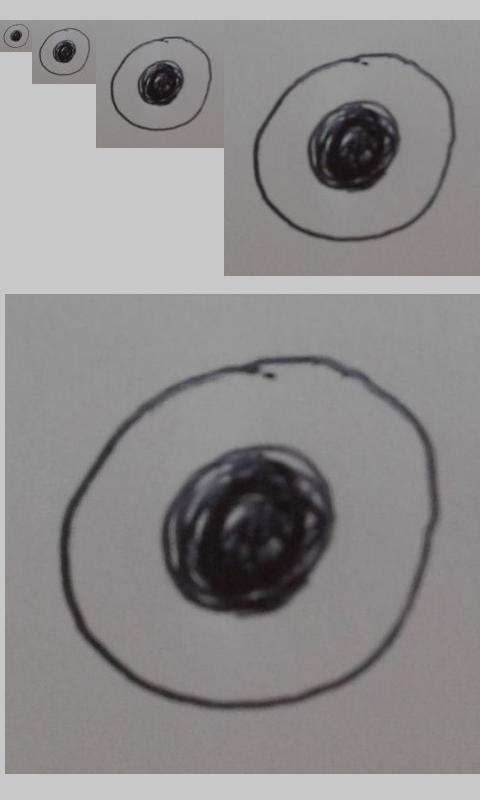radio_button: (57, 350, 441, 713), (251, 50, 457, 244), (108, 35, 212, 132), (37, 26, 91, 77), (2, 23, 30, 49)
